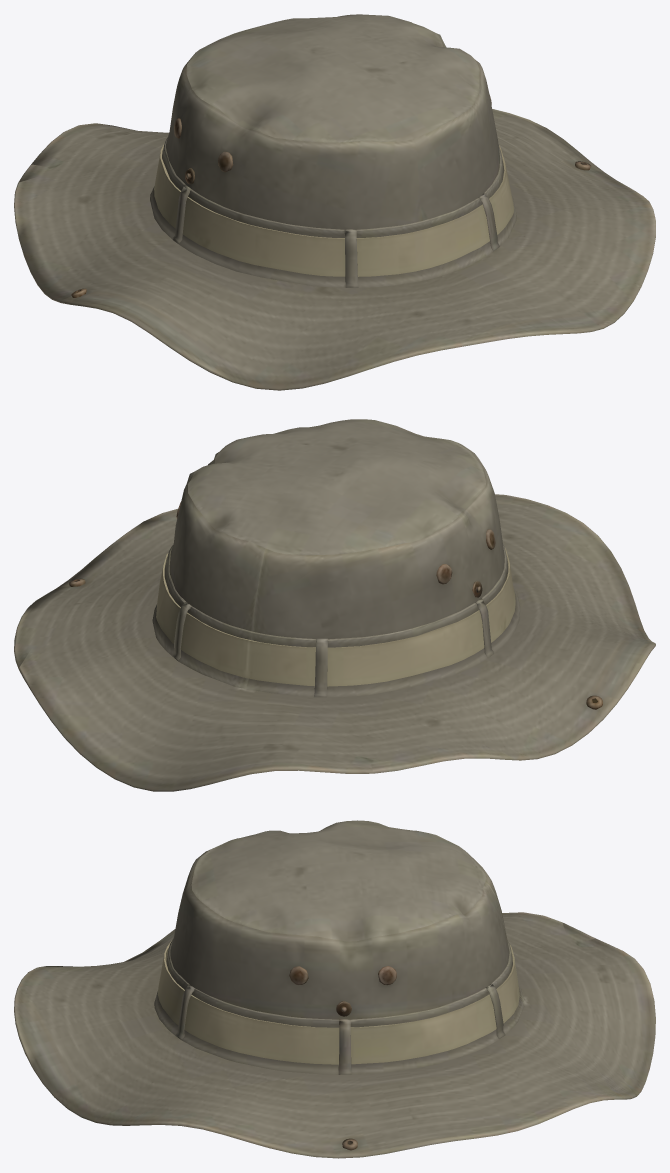
File: fishermans_hat.glb
3 views of the same model, one above another, from view 1: azimuth 30°, elevation 25°; view 2: azimuth 150°, elevation 25°; view 3: azimuth 270°, elevation 25° (orthographic). The views are drawn at different scales.
Visible parts, largest first — view 1: fishermans_hat; view 2: fishermans_hat; view 3: fishermans_hat.
Boxes of the visible parts, x1,y1,x2,y2 form: fishermans_hat: [14, 14, 655, 390]; fishermans_hat: [14, 419, 655, 791]; fishermans_hat: [14, 820, 655, 1158].
Bounding box in the file's own units: 0.3236 × 0.1239 × 0.35.
1 material, 1 textured.
